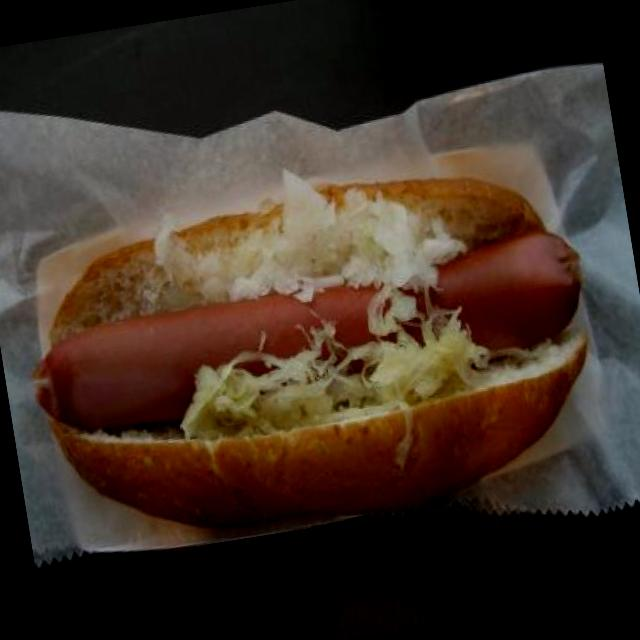Hot Dog: (4, 124, 624, 576)
